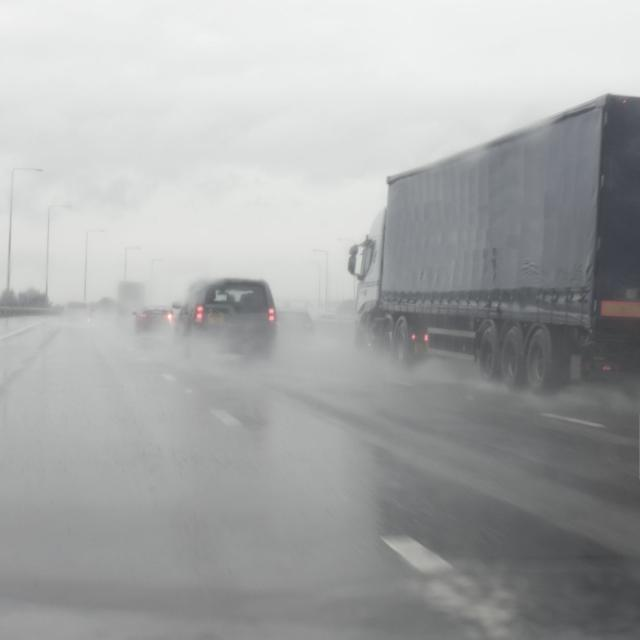bus: (356, 91, 640, 391), (119, 283, 145, 321)
car: (178, 279, 278, 359), (279, 307, 314, 351), (132, 305, 174, 338), (60, 300, 92, 328)
